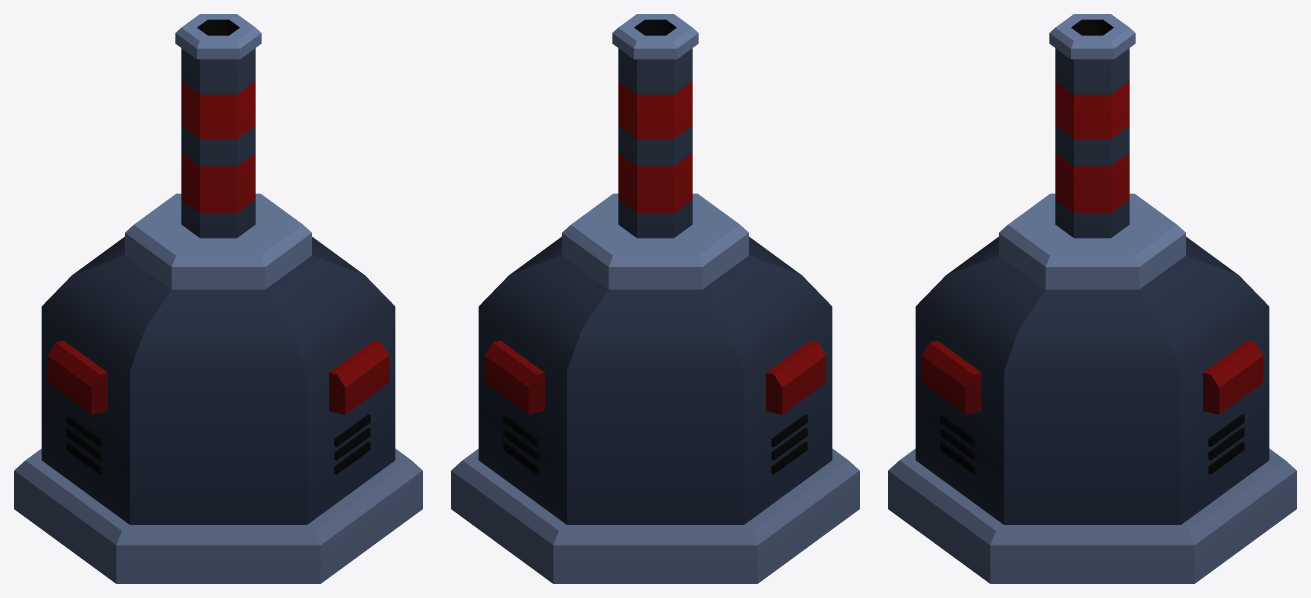
Rendered from Factory 01.FBX.
The picture shows the model from 3 angles, left to right: view 1: azimuth 30°, elevation 25°; view 2: azimuth 150°, elevation 25°; view 3: azimuth 270°, elevation 25°; orthographic projection.
Parts seen in each view (by area): view 1: Factory 01; view 2: Factory 01; view 3: Factory 01.
Part boxes in pixels (bbox=[...]): Factory 01: bbox=[14, 14, 422, 583]; Factory 01: bbox=[451, 14, 859, 583]; Factory 01: bbox=[888, 14, 1296, 583].
Size of the model in its own units: 275 by 412 by 317.
Materials: 1 (1 with a texture image).
